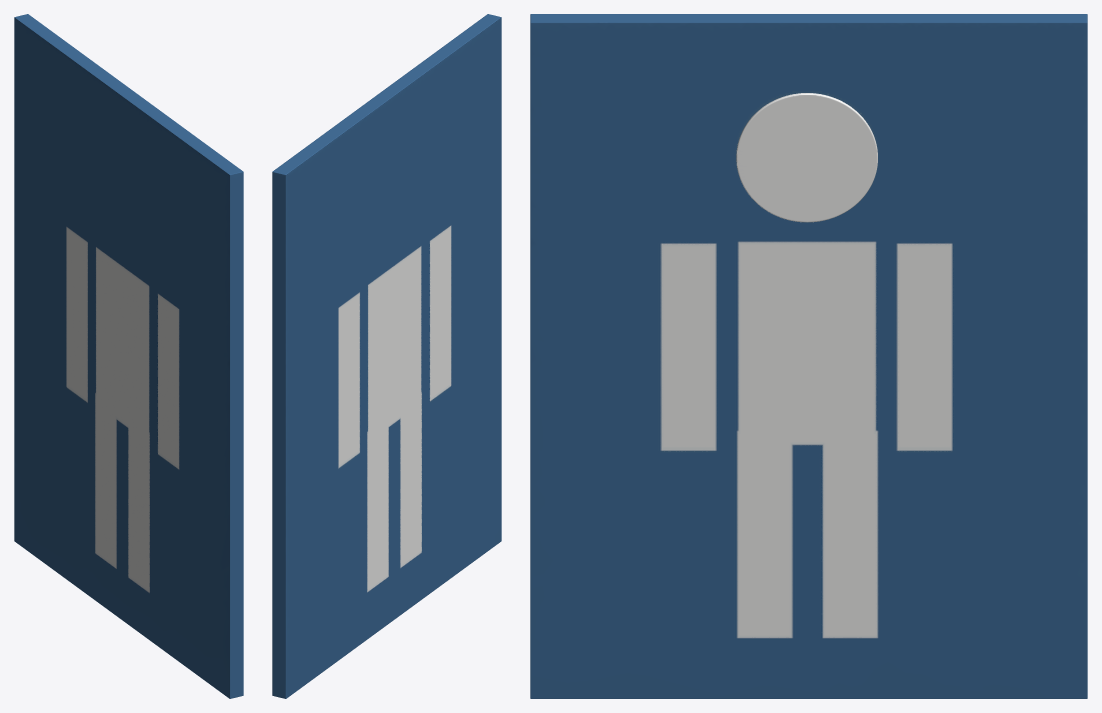
The model's file is men_bathroom_sign.glb.
3 renders of one model, left to right at view 1: azimuth 30°, elevation 25°; view 2: azimuth 150°, elevation 25°; view 3: azimuth 270°, elevation 25°, orthographic. The views are drawn at different scales.
Parts seen in each view (by area): view 1: Object_2; view 2: Object_2; view 3: Object_2.
Boxes of the visible parts, left/top/right/bottom form: Object_2: left=14, top=14, right=243, bottom=698; Object_2: left=272, top=14, right=501, bottom=698; Object_2: left=530, top=14, right=1087, bottom=698.
Size of the model in its own units: 0.1243 by 3.51 by 2.62.
Materials: 1 (1 with a texture image).
